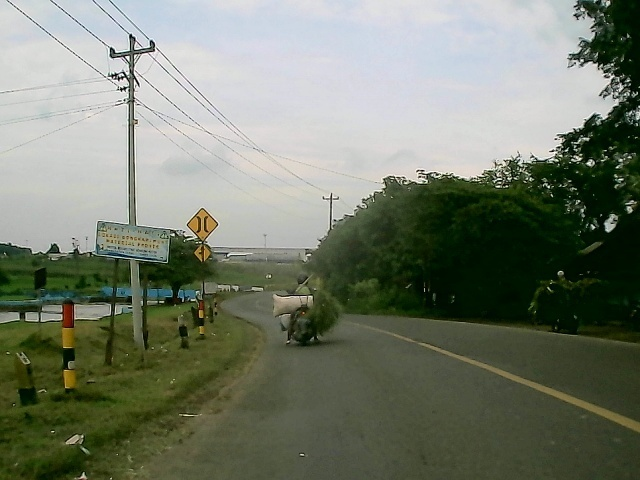Jembatan: (184, 206, 223, 244)
